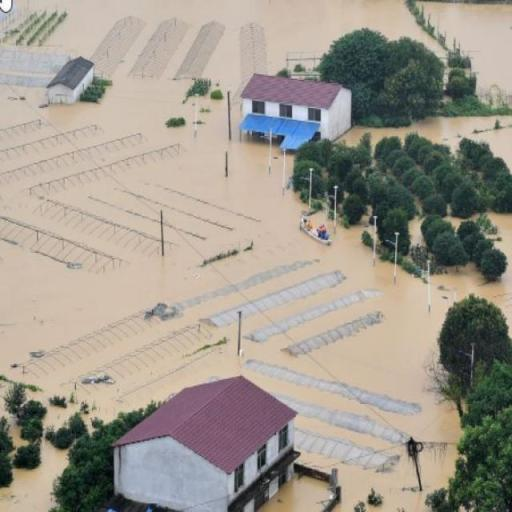flood: (0, 70, 512, 512), (14, 0, 446, 93), (341, 115, 512, 169), (424, 3, 512, 89), (0, 440, 67, 512), (259, 476, 334, 512)
house: (111, 372, 302, 512), (242, 73, 348, 137), (44, 57, 95, 108)
